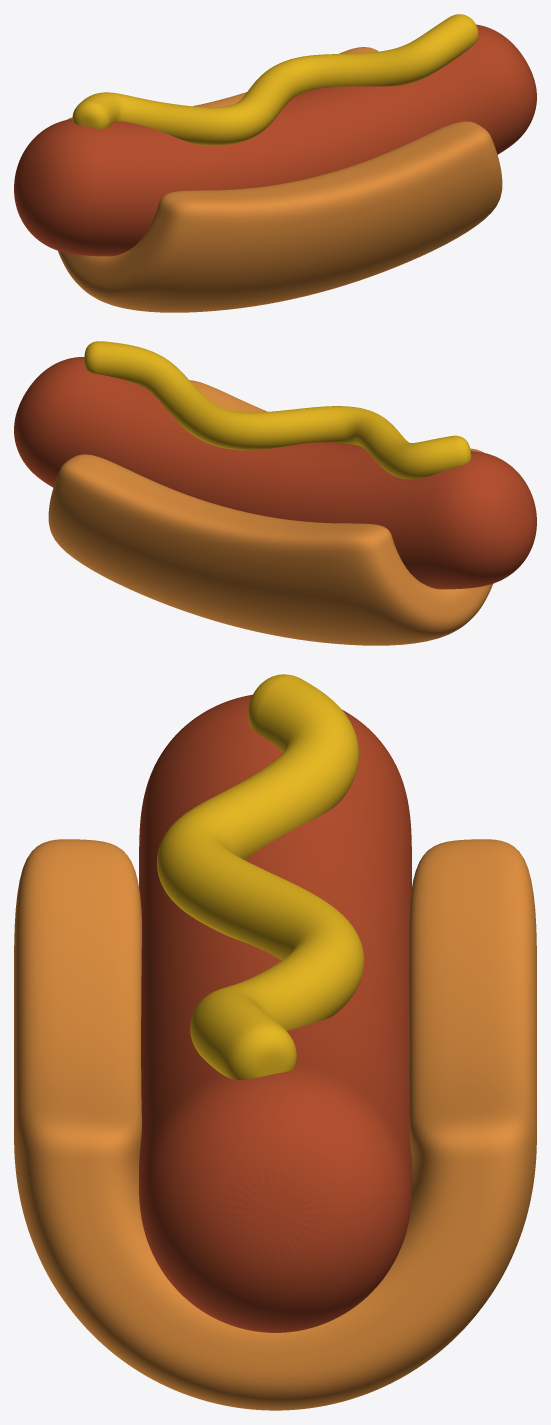
File: Hotdog.fbx
3 renders of one model, top to bottom at view 1: azimuth 30°, elevation 25°; view 2: azimuth 150°, elevation 25°; view 3: azimuth 270°, elevation 25°, orthographic. The views are drawn at different scales.
Visible parts, largest first — view 1: HotdogBun, HotdogSausage, HotdogMustardSauce; view 2: HotdogBun, HotdogSausage, HotdogMustardSauce; view 3: HotdogBun, HotdogSausage, HotdogMustardSauce.
Boxes of the visible parts, x1,y1,x2,y2 form: HotdogBun: (58, 47, 502, 312); HotdogSausage: (14, 24, 536, 256); HotdogMustardSauce: (72, 14, 478, 145); HotdogBun: (48, 380, 492, 645); HotdogSausage: (14, 357, 536, 589); HotdogMustardSauce: (84, 341, 471, 479); HotdogBun: (14, 839, 536, 1410); HotdogSausage: (139, 694, 411, 1332); HotdogMustardSauce: (157, 674, 364, 1079).
Size of the model in its own units: 229 by 100 by 105.
